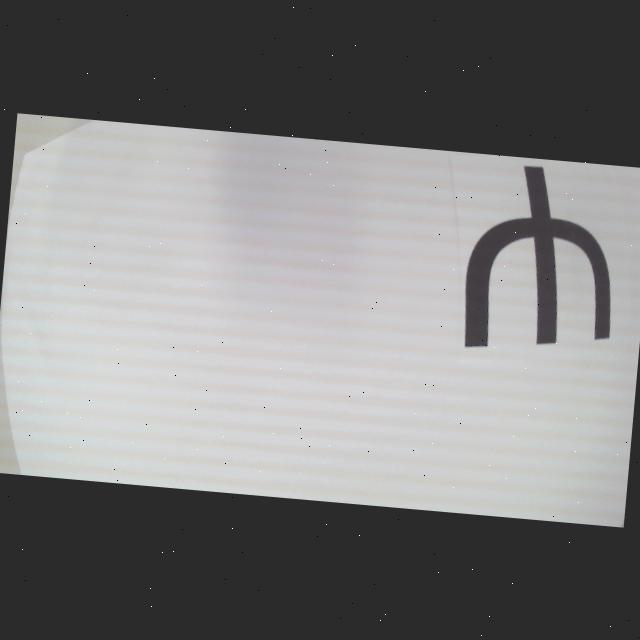PSI: (458, 160, 624, 362)
